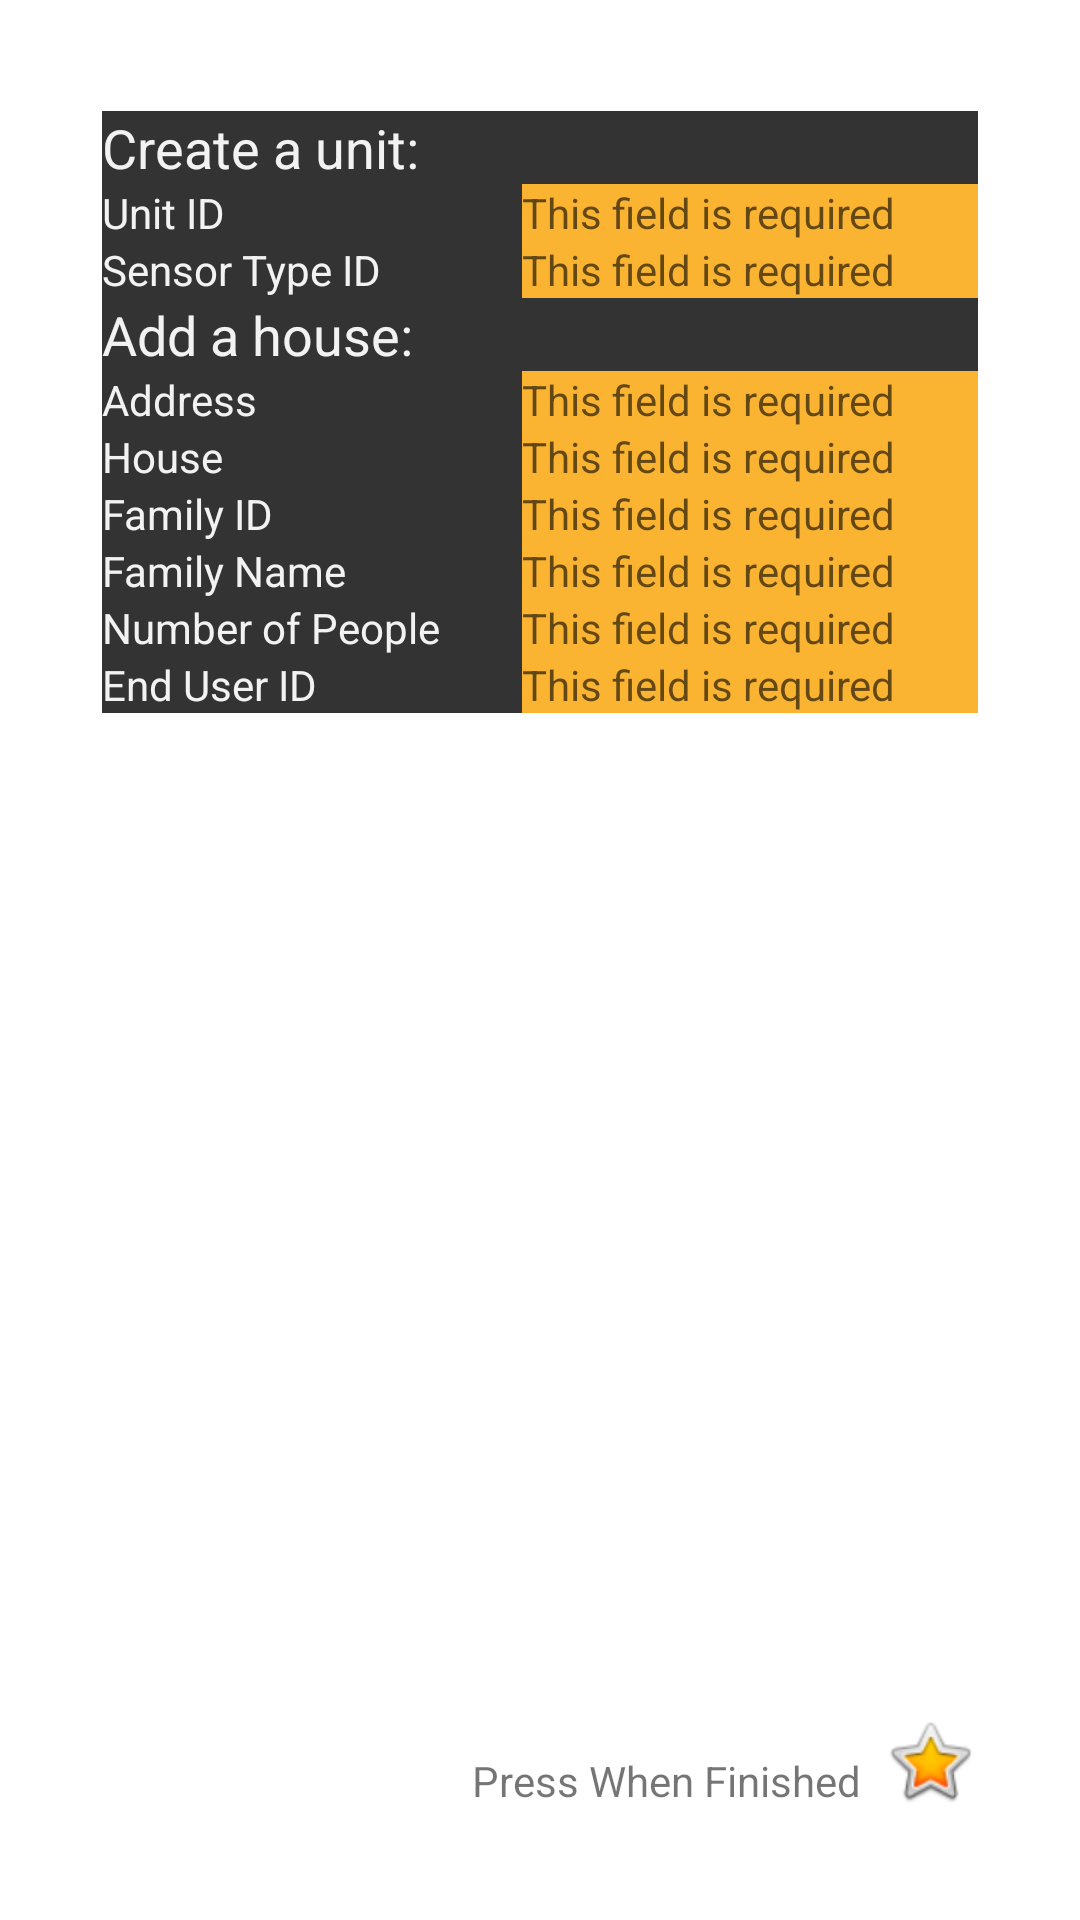

Where icons sit on this 1080 × 1920 app screen, as [x1, y1, x2, y2]:
star on: [891, 1723, 971, 1801]
